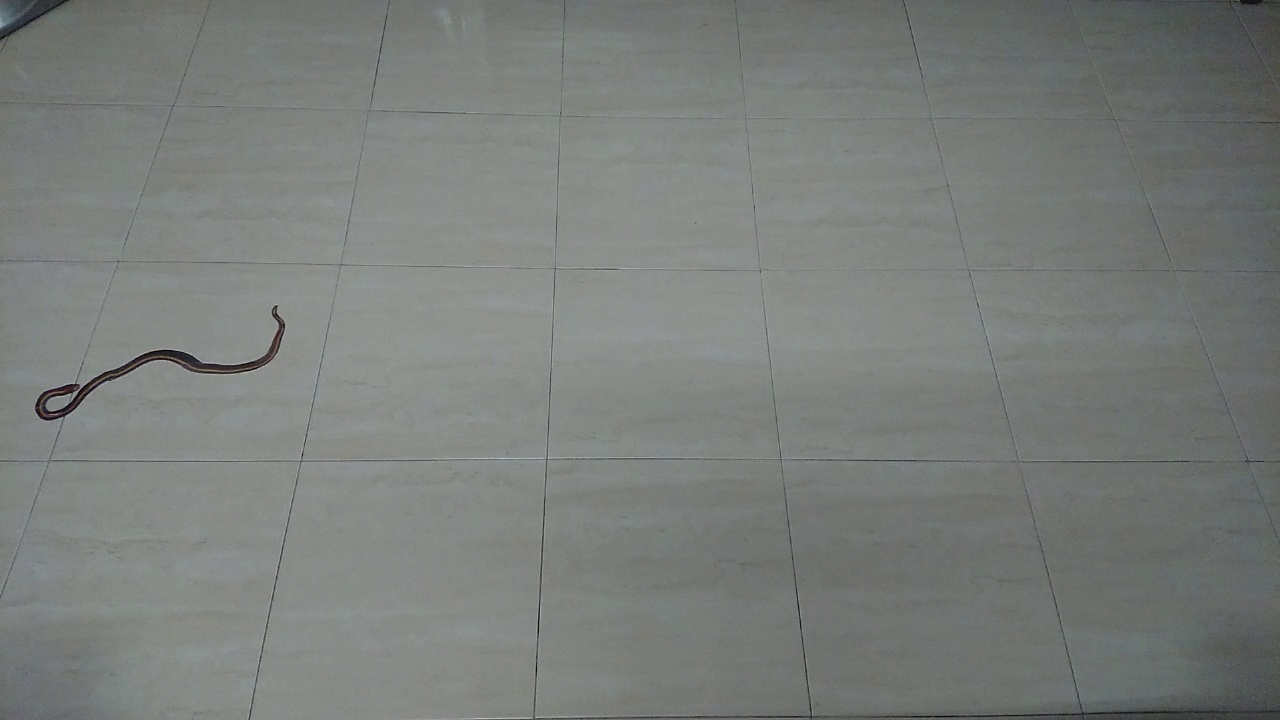snake: (27, 293, 298, 429)
